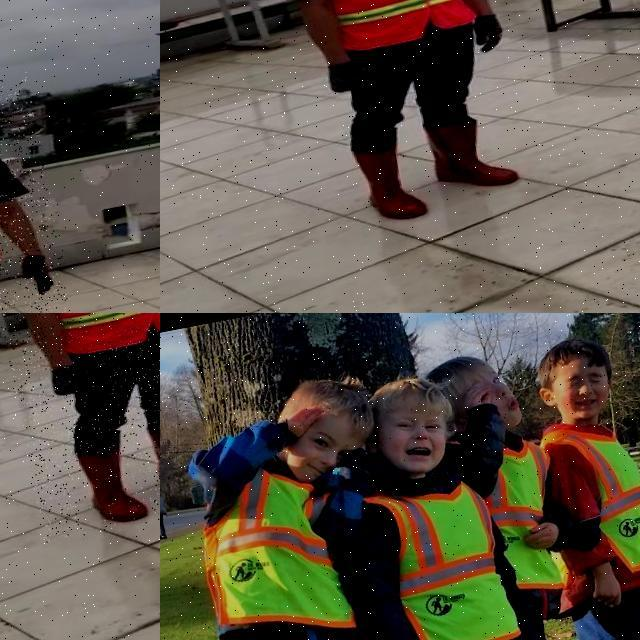boots: (338, 134, 432, 231), (431, 108, 518, 195), (73, 436, 153, 530)
vest: (373, 450, 517, 640), (199, 468, 343, 640), (483, 420, 574, 604), (554, 404, 640, 594), (293, 0, 478, 58), (24, 313, 160, 360)
